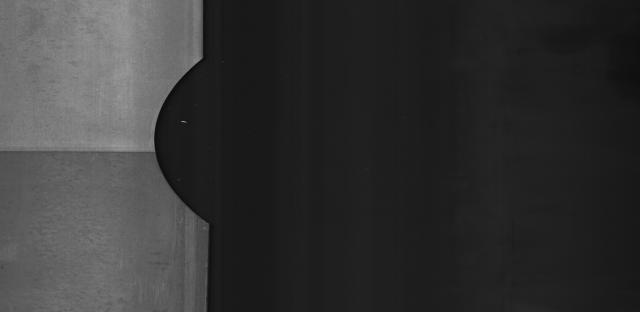crescent_gap: (143, 50, 232, 233)
welding_line: (3, 142, 174, 172)
